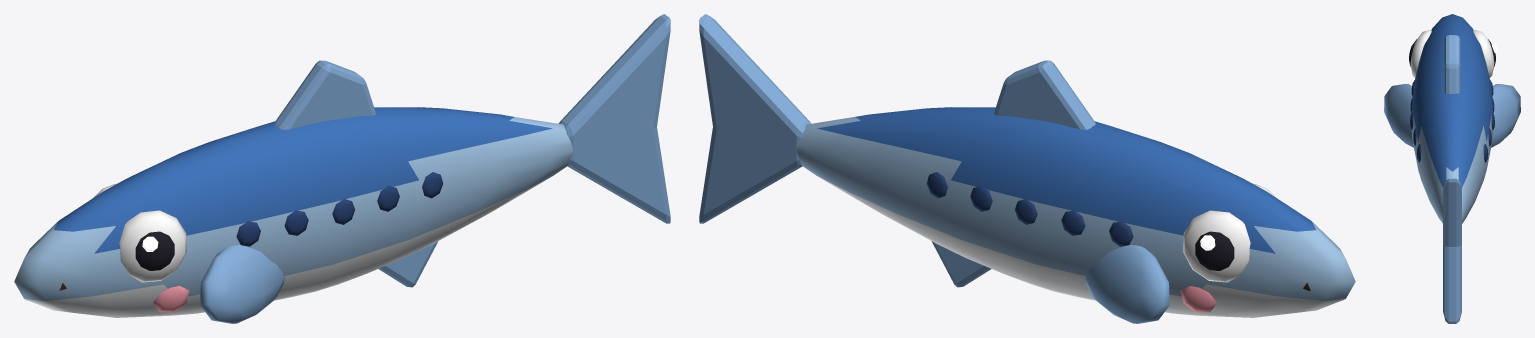
Rendered from peixe-sardinha.glb.
3 views of the same model, side by side, from view 1: azimuth 30°, elevation 25°; view 2: azimuth 150°, elevation 25°; view 3: azimuth 270°, elevation 25° (orthographic). The views are drawn at different scales.
Parts seen in each view (by area): view 1: peixe-sardinha; view 2: peixe-sardinha; view 3: peixe-sardinha.
Boxes of the visible parts, x1,y1,x2,y2 form: peixe-sardinha: (14, 14, 670, 323); peixe-sardinha: (699, 14, 1355, 323); peixe-sardinha: (1384, 14, 1520, 323).
Bounding box in the file's own units: 0.1672 × 0.0596 × 0.0431.
